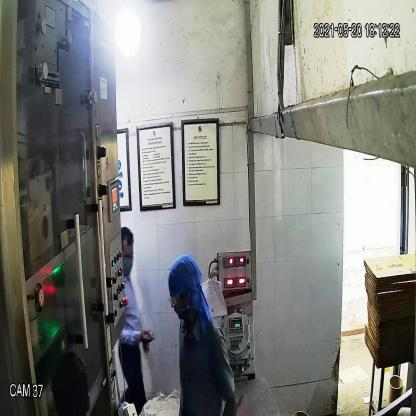goggles: (164, 290, 190, 312)
